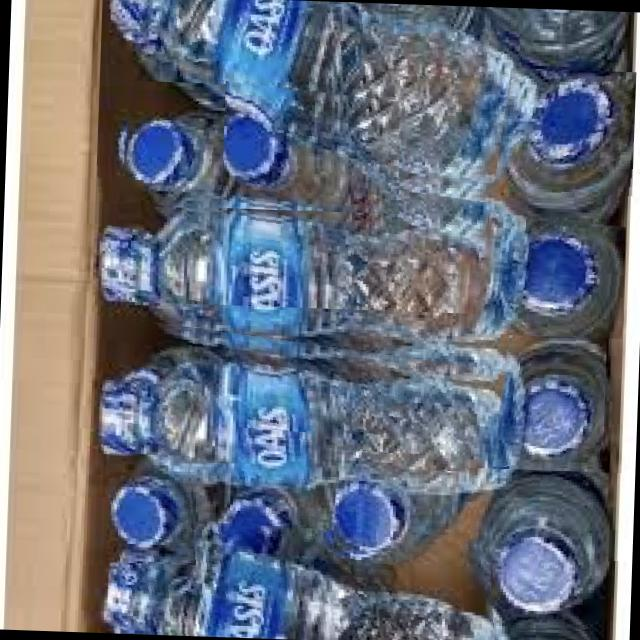plastic bottle: (95, 0, 534, 206), (92, 147, 496, 313), (97, 313, 514, 471), (106, 513, 500, 640), (459, 467, 623, 636), (221, 80, 403, 212), (491, 66, 636, 204), (474, 210, 626, 338), (118, 79, 240, 209), (492, 333, 607, 469), (106, 452, 200, 564), (333, 448, 425, 552), (236, 425, 320, 524)
